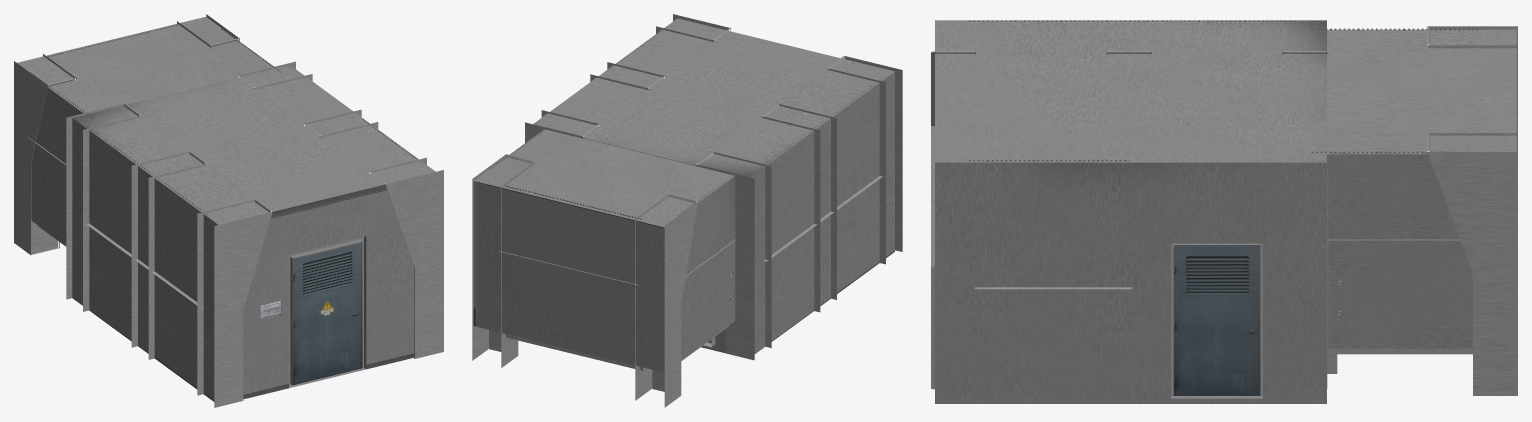
The model's file is CockpitTestmodelFullyTextured.fbx.
3 views of the same model, side by side, from view 1: azimuth 30°, elevation 25°; view 2: azimuth 150°, elevation 25°; view 3: azimuth 270°, elevation 25° (orthographic). The views are drawn at different scales.
Visible parts, largest first — view 1: MainCockpit; view 2: MainCockpit; view 3: MainCockpit.
Part boxes in pixels (x1,y1,x2,y2): MainCockpit: [14, 14, 443, 407]; MainCockpit: [472, 14, 902, 407]; MainCockpit: [931, 20, 1517, 403].
Size of the model in its own units: 415 by 331 by 685.
